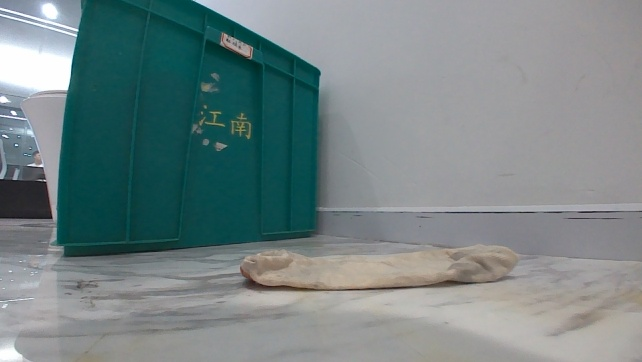socks: (237, 240, 520, 292)
toilet: (18, 85, 67, 225)
